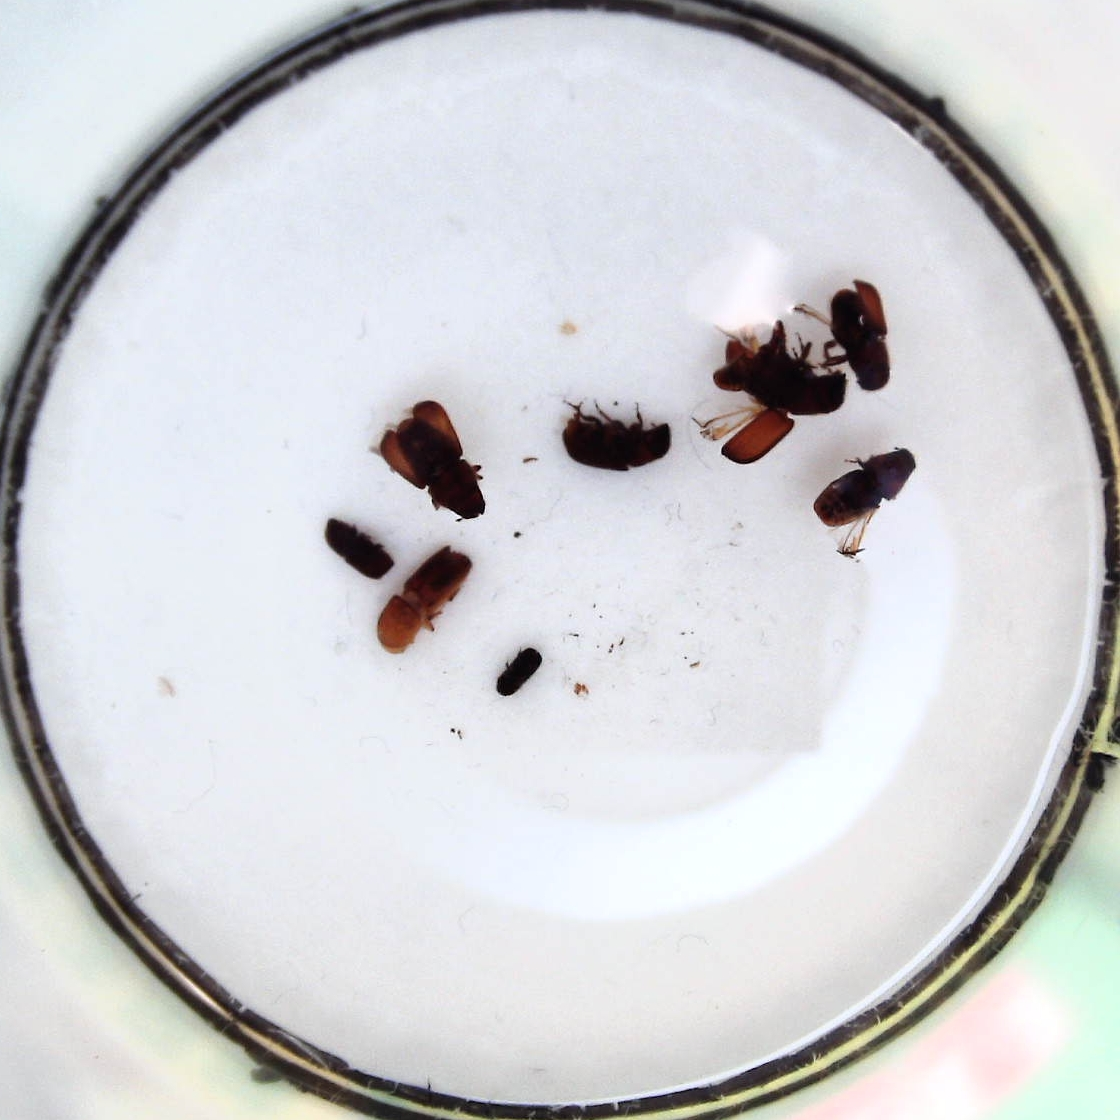Boerner: (378, 543, 474, 657)
Leconte: (693, 320, 848, 466), (379, 395, 494, 523), (809, 446, 918, 555), (560, 393, 676, 476), (821, 280, 889, 391)
Linnaeus: (321, 518, 393, 579)
acuminatus: (494, 644, 545, 698)
